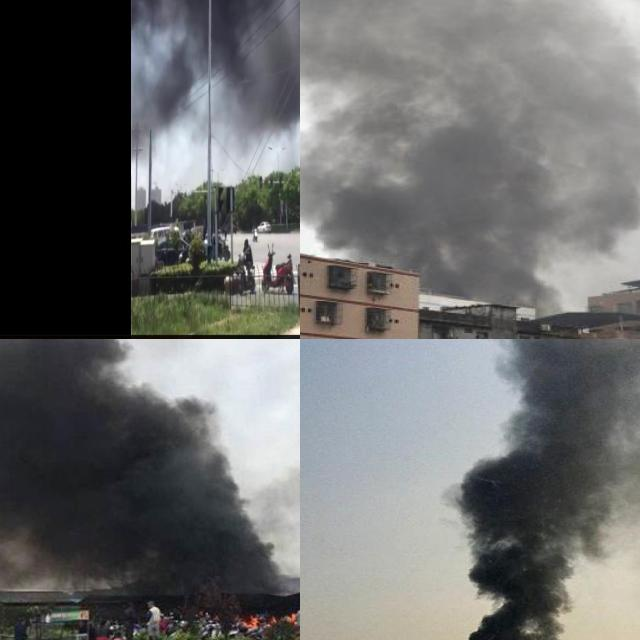fire: (238, 605, 300, 627), (240, 612, 260, 628)
smoke: (300, 0, 640, 294), (0, 339, 289, 603), (443, 339, 640, 640), (132, 0, 300, 134)
